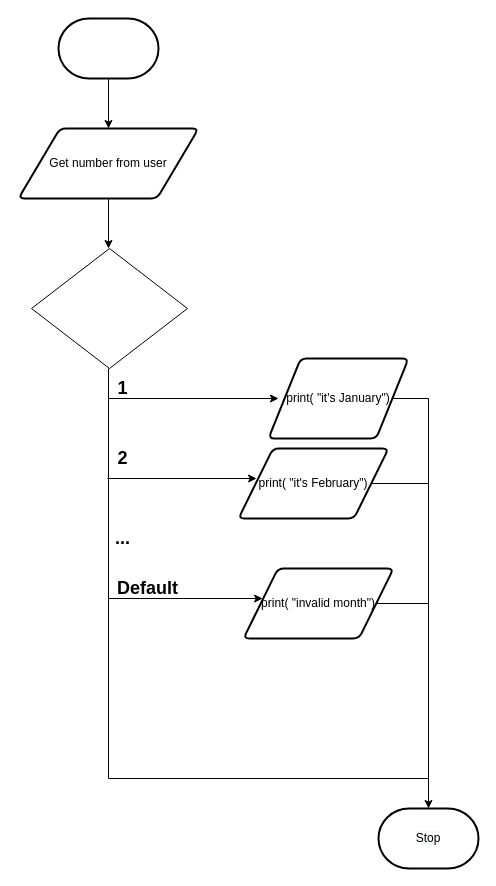
Image size: 496x886. Some labels were removed from this diagram. Each missing label, with the centre of its shape:
Check Number: pixel 109 308
Start: pixel 108 48
